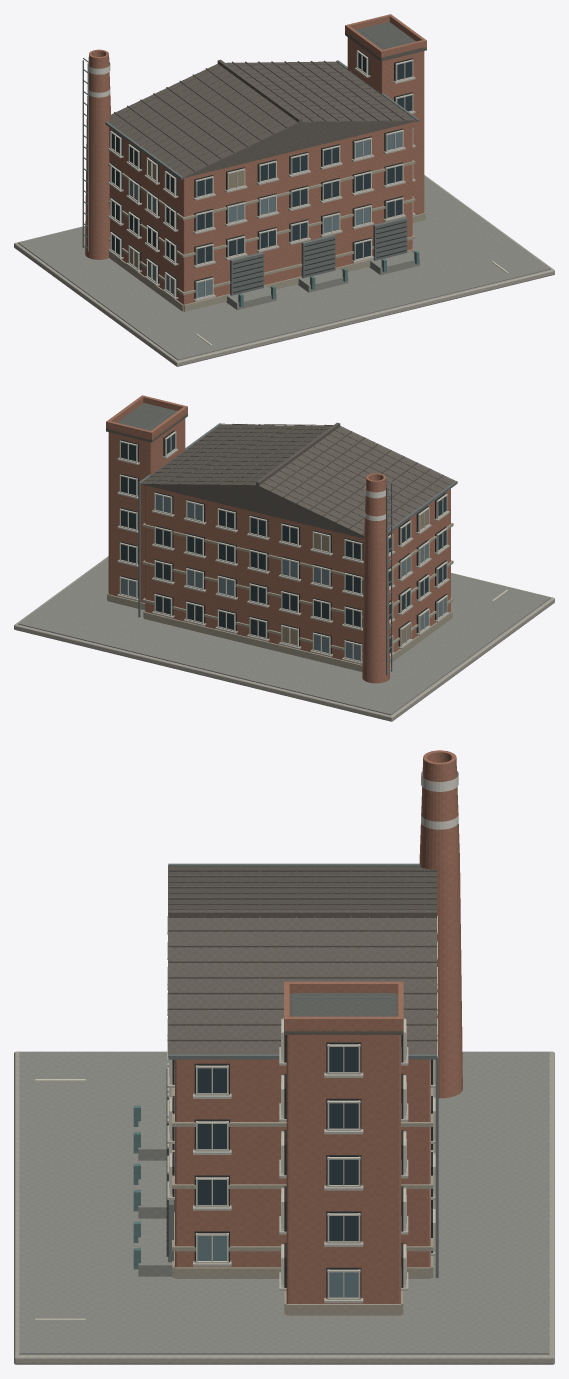
The model's file is EXP_FACTORY_MILL.glb.
3 views of the same model, one above another, from view 1: azimuth 30°, elevation 25°; view 2: azimuth 150°, elevation 25°; view 3: azimuth 270°, elevation 25° (orthographic). The views are drawn at different scales.
Visible parts, largest first — view 1: EXP_FACTORY_MILL_Visual; view 2: EXP_FACTORY_MILL_Visual; view 3: EXP_FACTORY_MILL_Visual.
Part boxes in pixels (x1,y1,x2,y2): EXP_FACTORY_MILL_Visual: (14, 14, 554, 366); EXP_FACTORY_MILL_Visual: (14, 395, 554, 721); EXP_FACTORY_MILL_Visual: (14, 750, 554, 1364).
Size of what is drawn, in the model's own units: 7.92 by 4.14 by 5.92.
17 materials, 10 textured.
